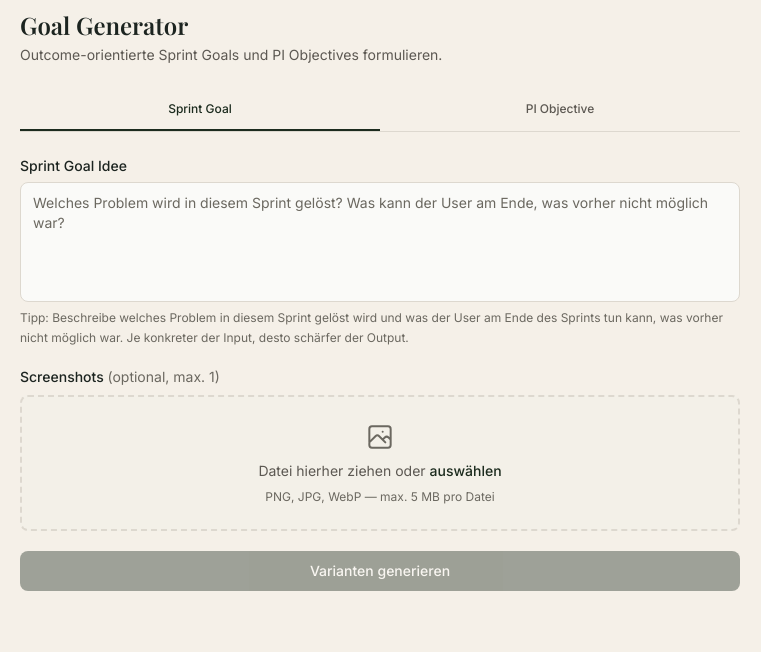
GoalGeneratorPage — Submit Error › bleibt auf Input-Screen bei Service-Fehler
The width and height of the screenshot is (761, 652).
Type "Idee" into the text box labelled "Sprint Goal Idee" at (380, 242), box [20, 182, 740, 302]
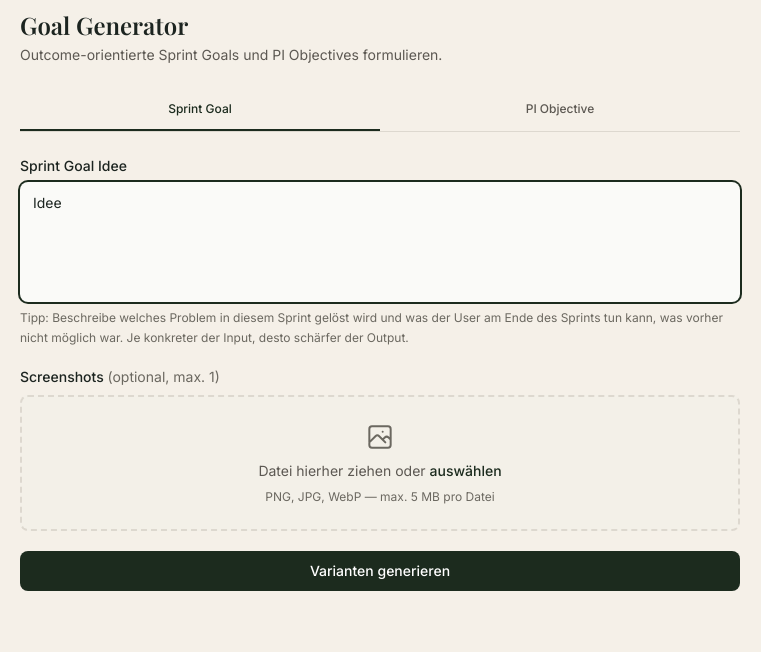
Click the button "Varianten generieren" at (380, 571), box [20, 551, 740, 591]
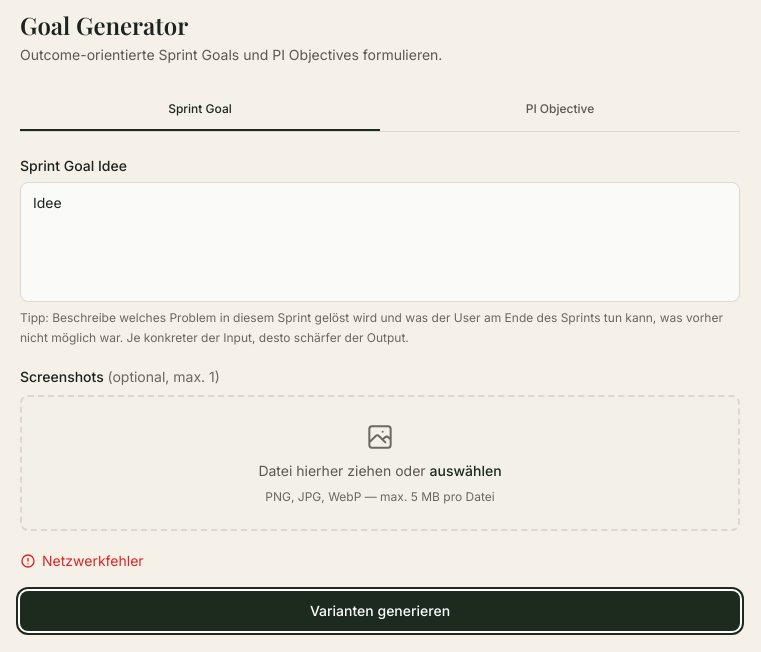
Expected: the button "Varianten generieren" is shown, [20, 591, 740, 631]
Expected: the message "Netzwerkfehler" is shown, [20, 552, 144, 569]
Expected: the message reads "Netzwerkfehler", [42, 552, 144, 569]
